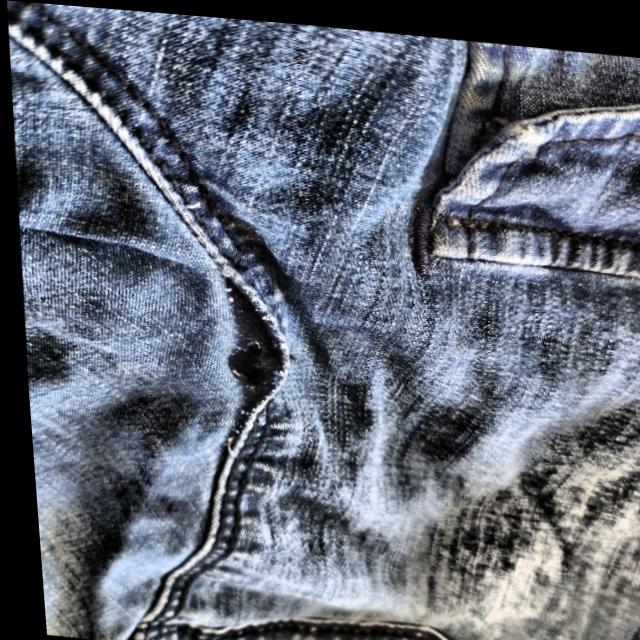seam: (195, 267, 294, 413)
